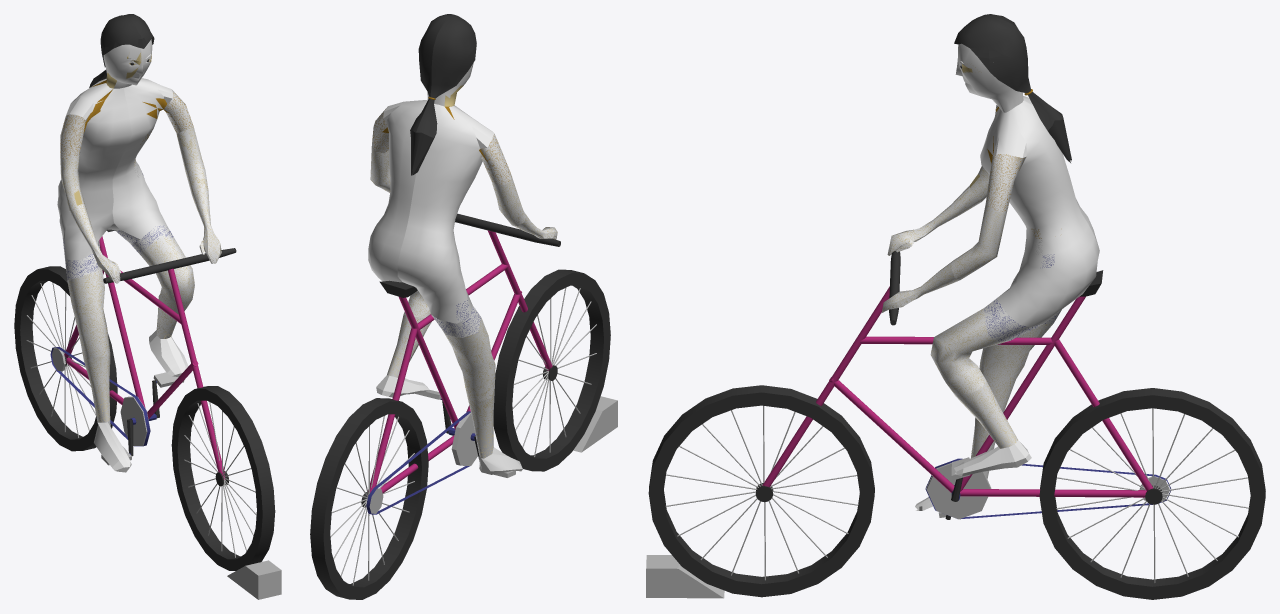
File: bicycle.dae
3 renders of one model, left to right at view 1: azimuth 30°, elevation 25°; view 2: azimuth 150°, elevation 25°; view 3: azimuth 270°, elevation 25°, orthographic. The views are drawn at different scales.
Parts seen in each view (by area): view 1: biker, wheelFron, wheelBack, polySurface1, hair, block, beam6, handleBar, beam5, pedalGear, chain, transform1 (+2 smaller); view 2: biker, wheelBack, wheelFron, hair, polySurface1, block, beam3, pedalGear, beam5, beam6, handleBar, chain (+4 smaller); view 3: biker, wheelBack, wheelFron, hair, polySurface1, block, pedalGear, beam6, beam4, beam5, beam1, beam3 (+2 smaller).
Boxes of the visible parts, <box> form: biker: <box>57,39,221,472</box>; wheelFron: <box>171,386,275,570</box>; wheelBack: <box>14,266,117,451</box>; polySurface1: <box>60,53,221,421</box>; hair: <box>89,14,154,87</box>; block: <box>227,560,281,599</box>; beam6: <box>168,268,225,479</box>; handleBar: <box>103,248,236,283</box>; beam5: <box>99,236,145,408</box>; pedalGear: <box>120,396,150,445</box>; chain: <box>50,347,150,446</box>; transform1: <box>62,93,192,248</box>; biker: <box>368,63,557,474</box>; wheelBack: <box>310,398,428,599</box>; wheelFron: <box>493,269,610,471</box>; hair: <box>410,14,476,175</box>; polySurface1: <box>371,85,557,457</box>; block: <box>573,396,617,452</box>; beam3: <box>368,327,417,492</box>; pedalGear: <box>451,412,477,465</box>; beam5: <box>399,297,459,429</box>; beam6: <box>487,230,552,370</box>; handleBar: <box>455,213,560,246</box>; chain: <box>366,411,470,514</box>; biker: <box>882,43,1099,510</box>; wheelBack: <box>1039,388,1265,599</box>; wheelFron: <box>648,385,874,597</box>; hair: <box>954,14,1071,162</box>; polySurface1: <box>882,64,1059,475</box>; block: <box>646,555,724,598</box>; pedalGear: <box>926,462,991,519</box>; beam6: <box>762,286,889,487</box>; beam4: <box>960,489,1146,497</box>; beam5: <box>960,296,1085,491</box>; beam1: <box>829,377,954,492</box>; beam3: <box>1054,339,1152,490</box>.
Size of what is drawn, in the model's own units: 5.88 by 19.69 by 19.19.
